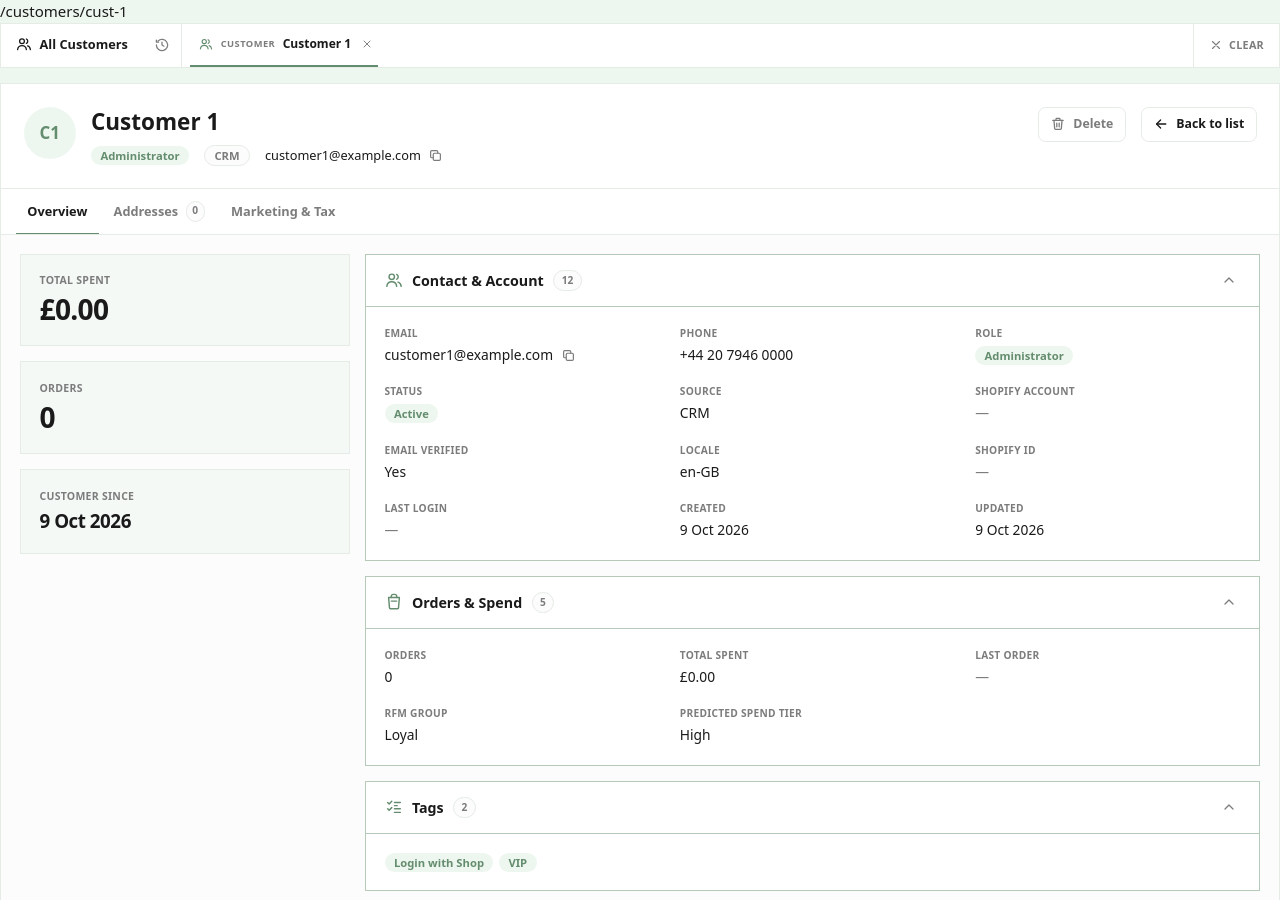
Scenario: Customer details › says so when a CRM customer has no saved addresses
Expected: the heading "Contact & Account" is shown, [412, 270, 544, 291]
Click the tab "Addresses 0" at {"x": 159, "y": 212}, box [102, 189, 216, 235]
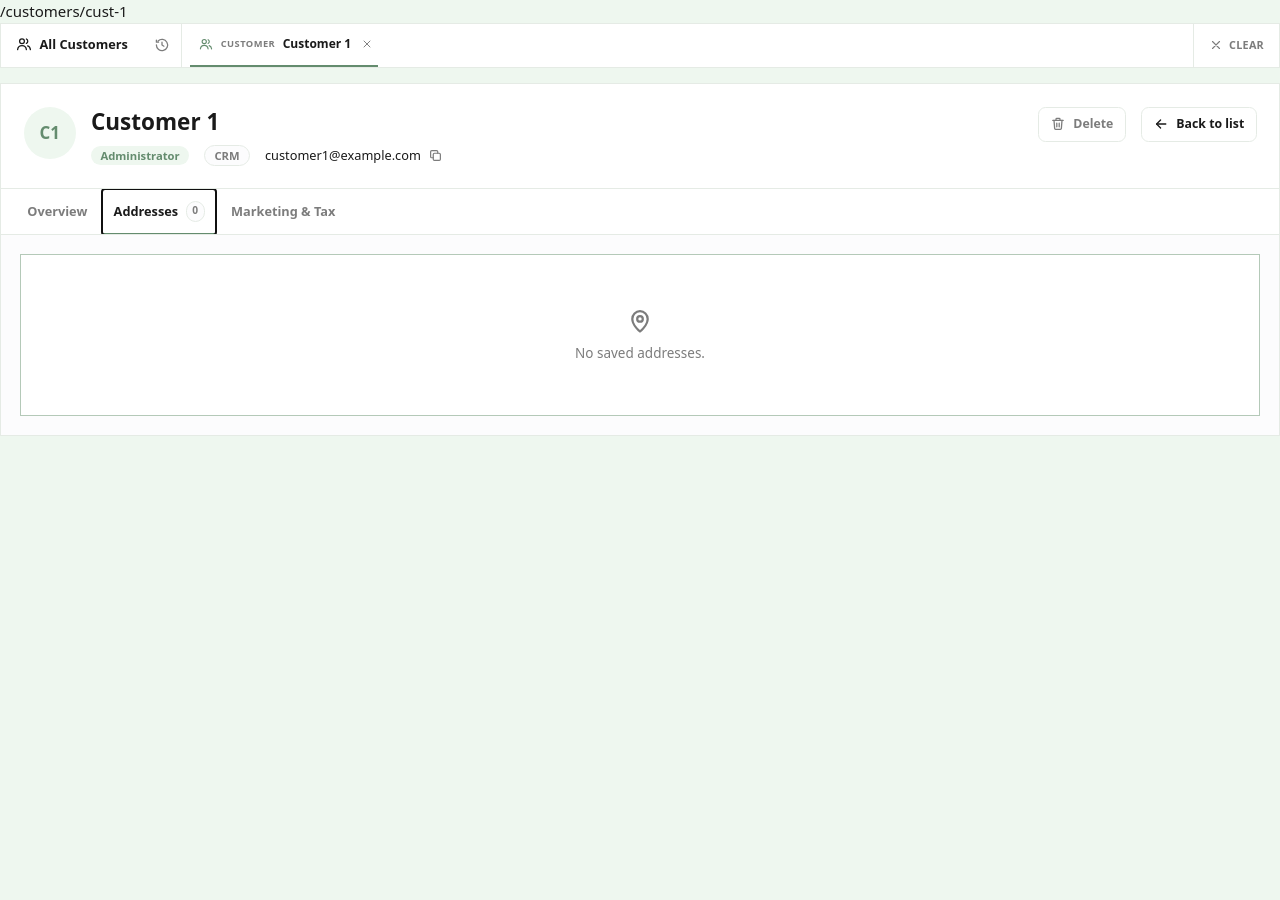
Expected: the text "No saved addresses." is shown, [20, 254, 1260, 416]
